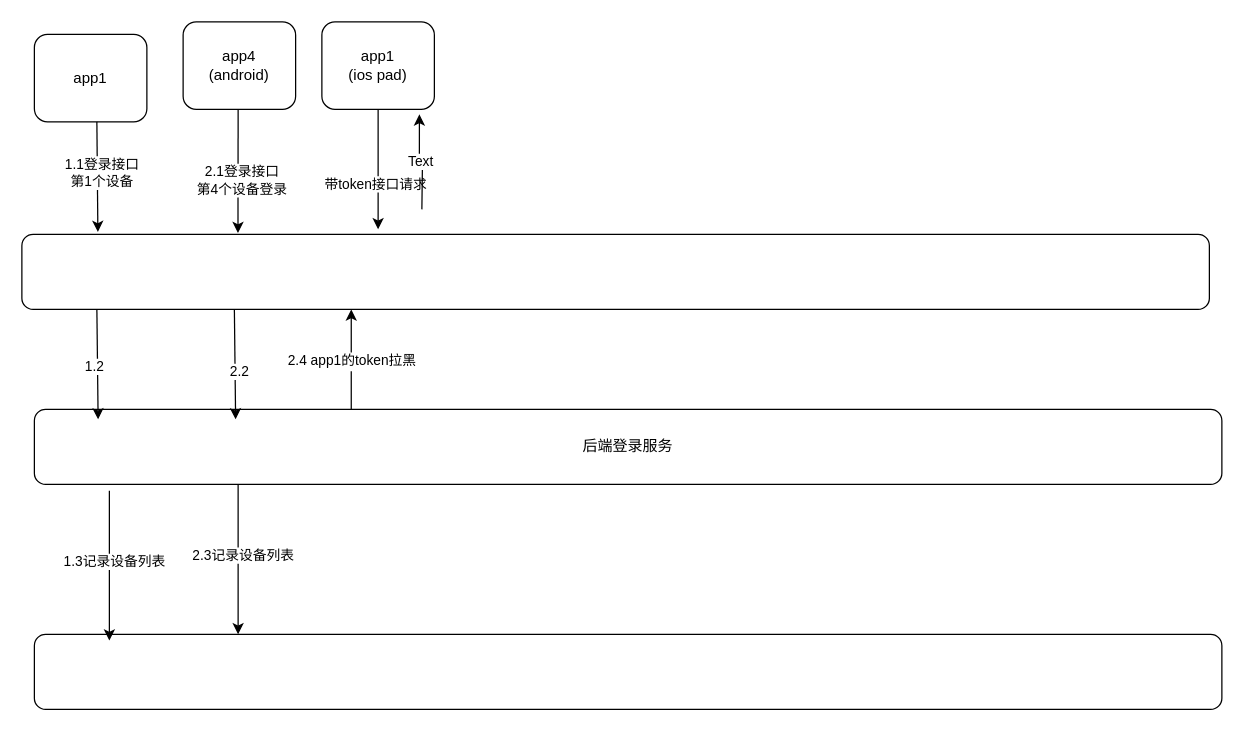
Some shapes in this 1244 by 731 pixel diagram are drawn without their labels. The shapes that lost their labels are listed below. From the top down, each one's centre as x and y in pixels, then its label:
At (615,271): "nginx（token-fe模块）".
At (627,671): "mysql".
